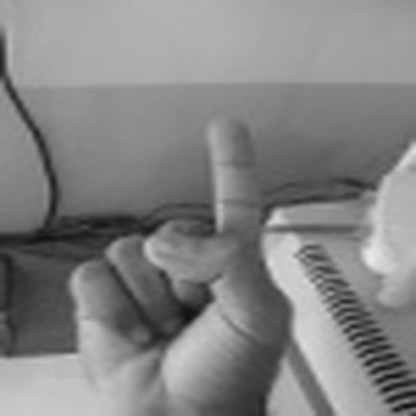d: (66, 104, 295, 416)
